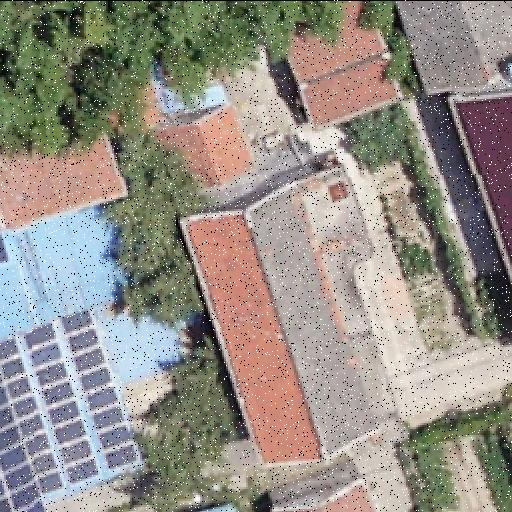solar-panel: (0, 308, 136, 512), (0, 231, 8, 265)
